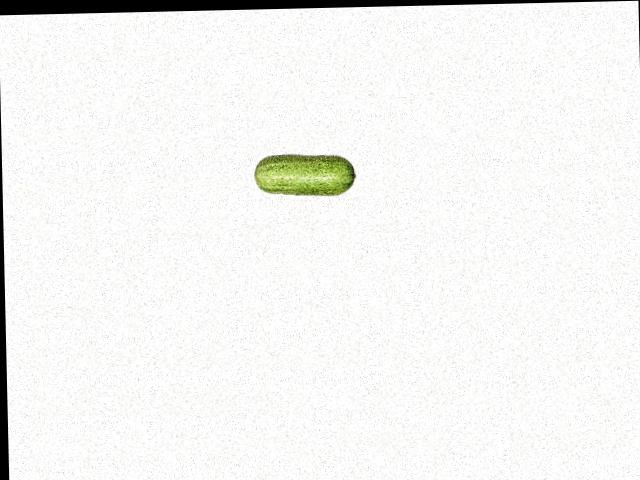cucumber: (254, 153, 357, 196)
